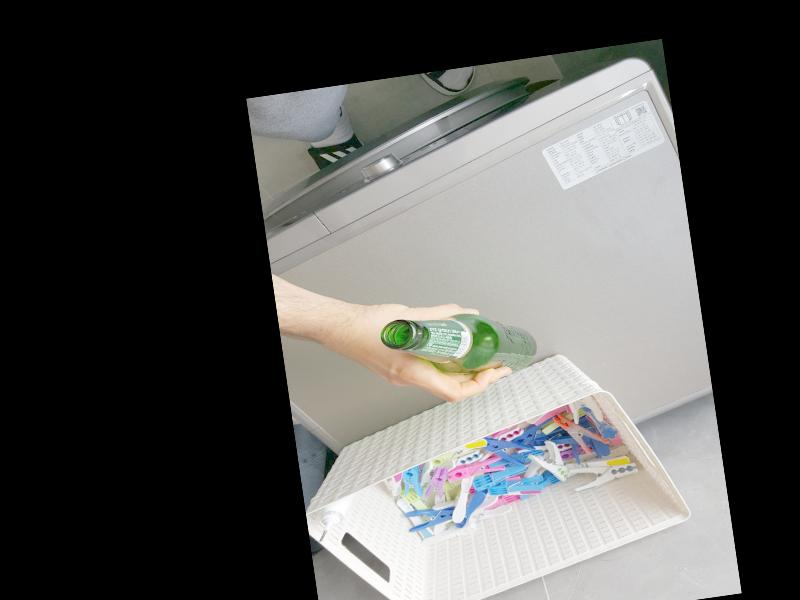Beer: (379, 300, 539, 392)
